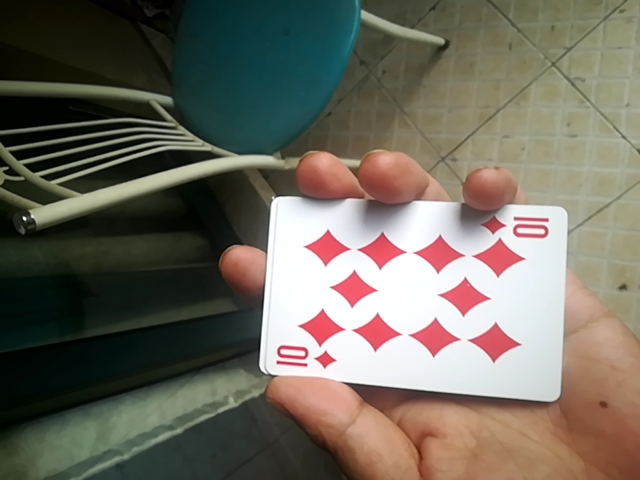fk 10: (263, 196, 565, 393)
